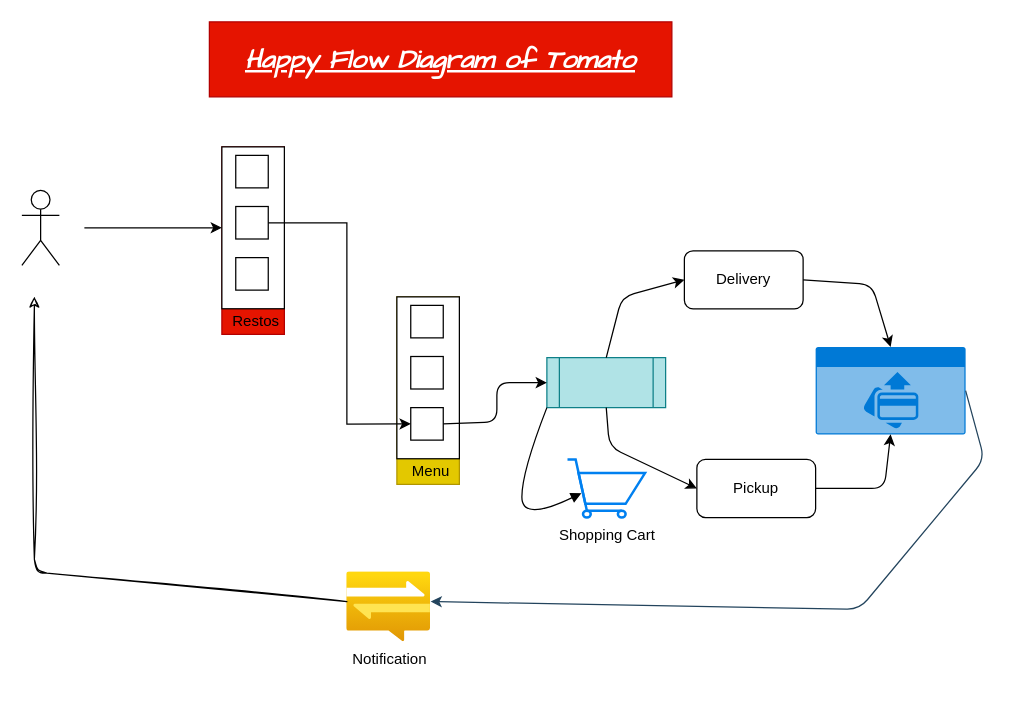
The diagram is 1016 pixels wide and 709 high, and some of its shapes have lost their labels. The shapes that lost their labels are listed below. From the top down, each one's box as (x1, y1, x2, y2) in pixels, then its label:
(21, 189, 59, 265): Actor
(546, 356, 666, 408): Order
(815, 346, 965, 434): Payment
